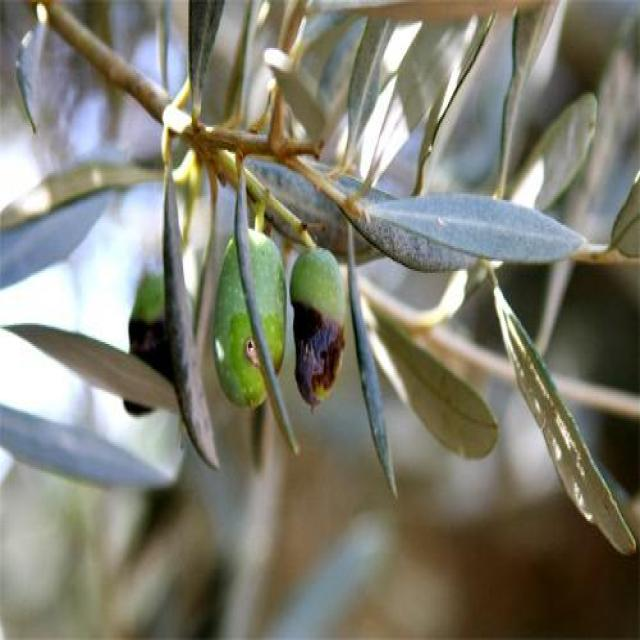Olive Fruit Fly: (212, 238, 265, 406), (289, 248, 344, 407)
